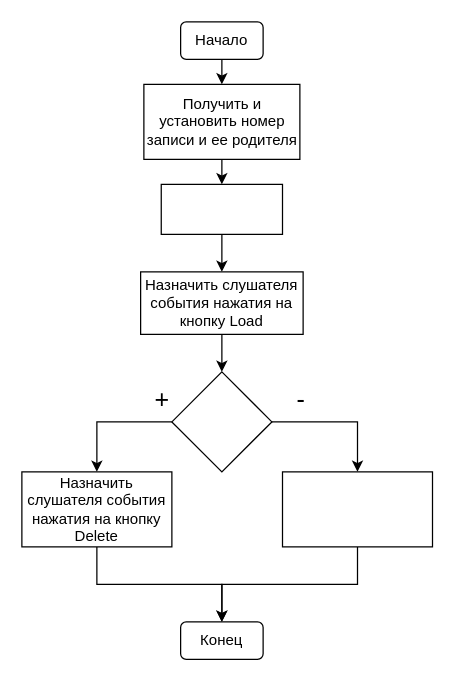
This 455x681 diagram has some shape labels left out. Here are the shapes that lost their labels. From the top down, the centre of each, then its label:
the point at 221,208: Установить название записи
the point at 221,421: Запись - корень?
the point at 356,509: Скрыть кнопку Delete
